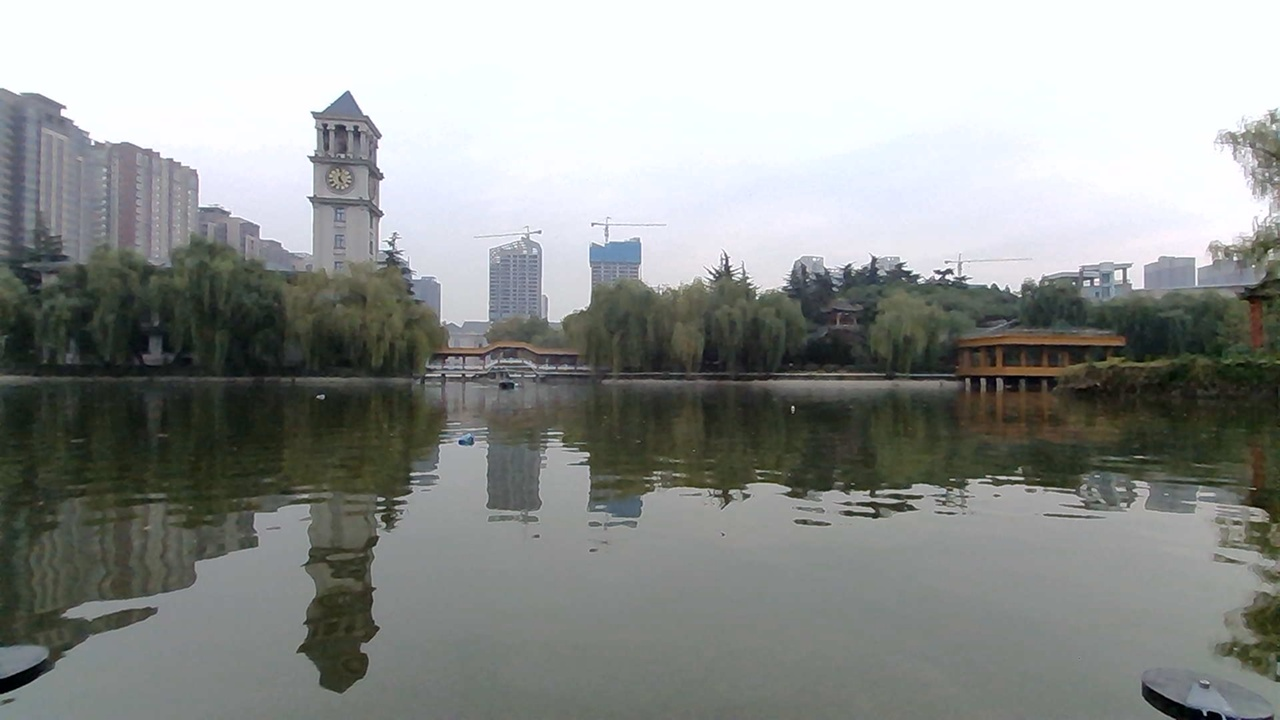bottle: (449, 425, 488, 449), (781, 396, 805, 420), (313, 385, 336, 403)
